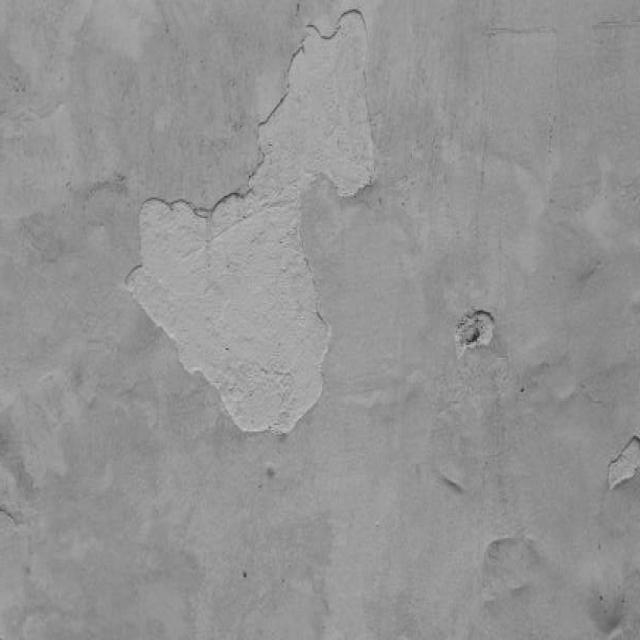peeling paint: (111, 0, 391, 459), (451, 302, 640, 503)
